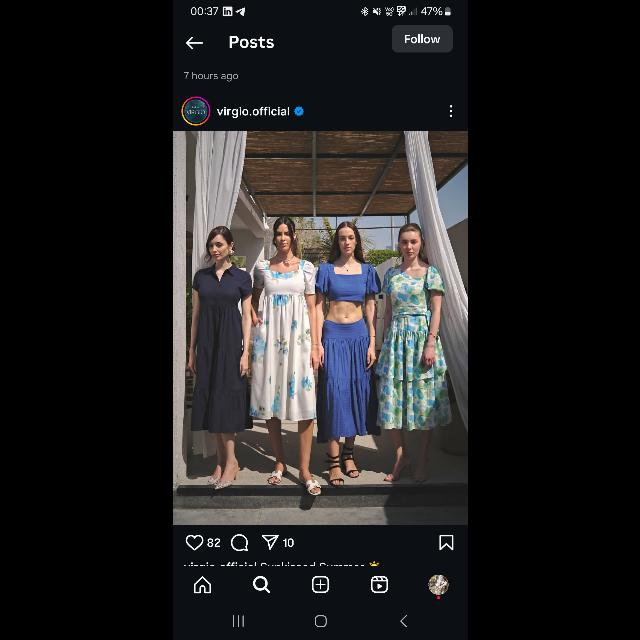bottom: (323, 318, 371, 434)
dress: (382, 264, 444, 428), (252, 258, 314, 420), (192, 268, 246, 428)
shoes: (341, 448, 359, 478), (330, 455, 344, 485), (303, 477, 319, 497), (213, 483, 237, 491), (268, 472, 282, 484), (206, 476, 218, 484)
top: (318, 261, 376, 301)
